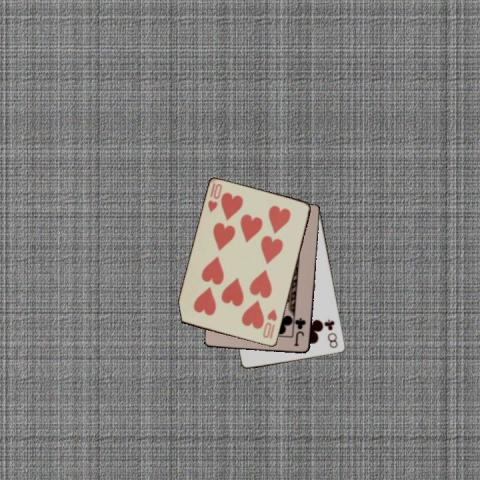10h: (260, 306, 279, 341), (205, 180, 223, 213)
8c: (323, 316, 339, 349)
Jc: (292, 316, 307, 348)
